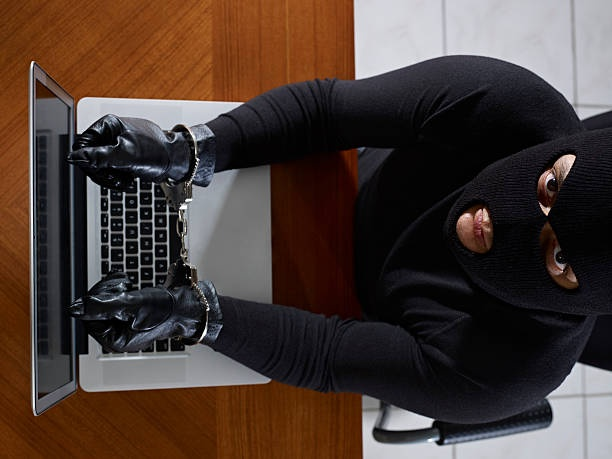keyboard: (97, 126, 190, 357)
laptop: (27, 57, 275, 414)
mask: (442, 122, 612, 320)
